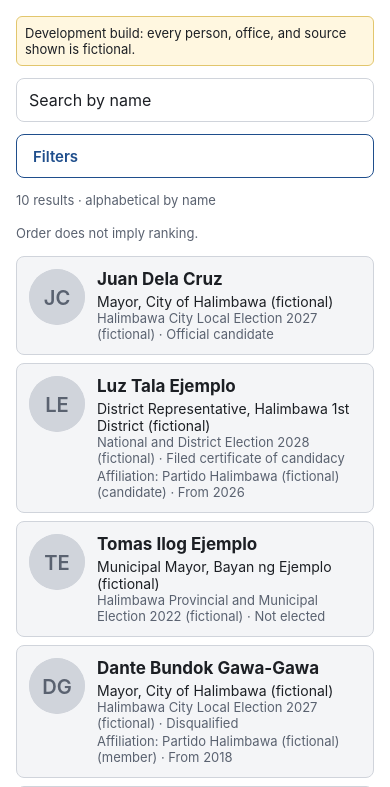
Test: DirectoryView › clears the search with the clear control
This screenshot has width=390, height=787.
Expected: the text "10 results · alphabetical by name" is shown, 16,192 -> 216,208
In the field named "Search politicians by name": (195, 100) 16,78 -> 374,122, type "gawa"
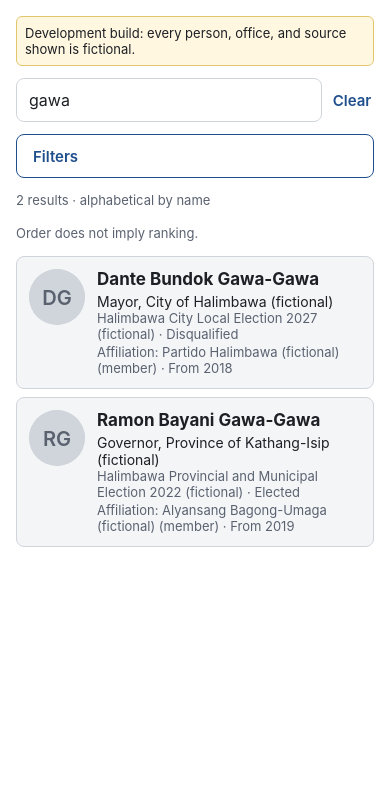
Now the text "2 results · alphabetical by name" is shown, box 16,192 -> 210,208
Click the button with aria-label "Clear search": click(352, 100) 330,78 -> 374,122
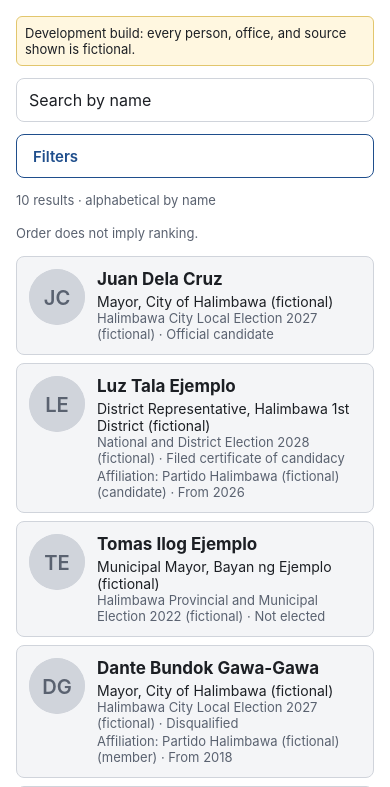
Now the text "10 results · alphabetical by name" is shown, box 16,192 -> 216,208
